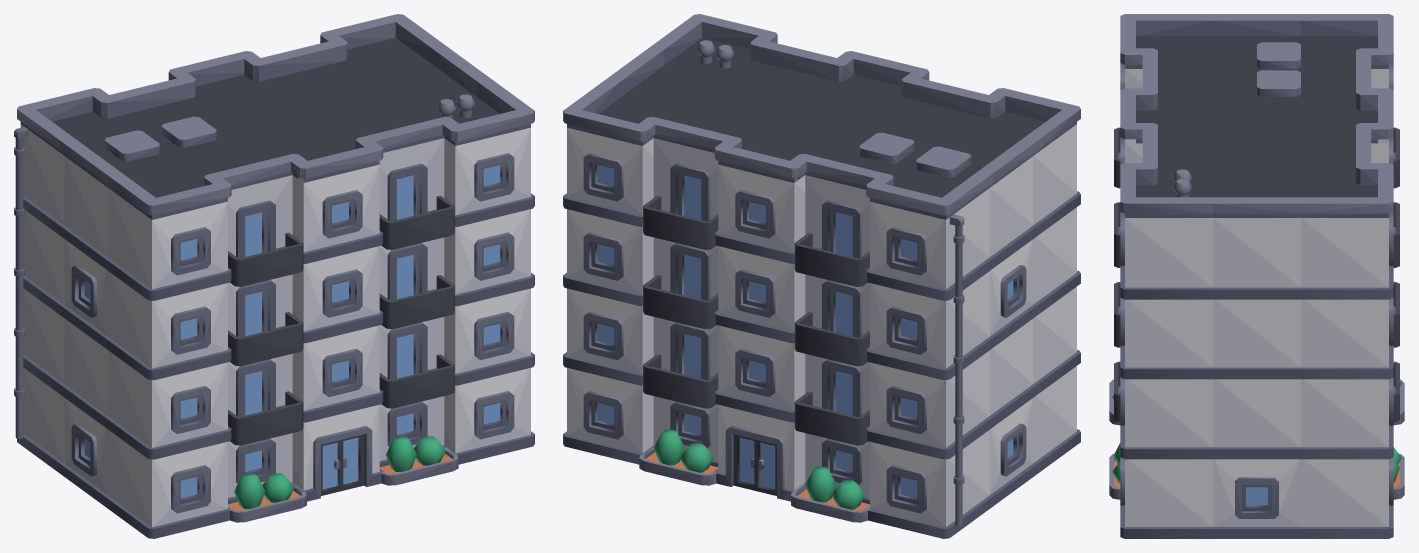
3 renders of one model, left to right at view 1: azimuth 30°, elevation 25°; view 2: azimuth 150°, elevation 25°; view 3: azimuth 270°, elevation 25°, orthographic.
Visible parts, largest first — view 1: building-j; view 2: building-j; view 3: building-j.
Part boxes in pixels (x1=…): building-j: x1=14, y1=14, x2=534, y2=538; building-j: x1=563, y1=14, x2=1080, y2=538; building-j: x1=1109, y1=14, x2=1404, y2=538.
Size of the model in its own units: 15.75 by 12.8 by 10.13.
